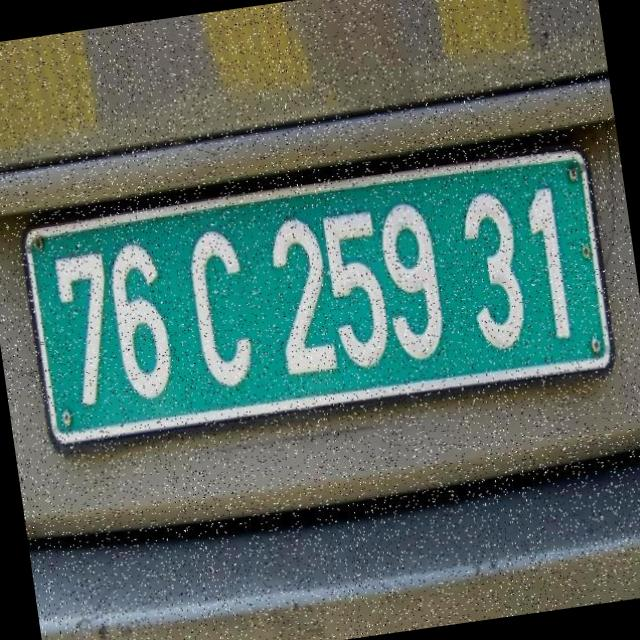LicensePlate: (22, 146, 614, 448)
